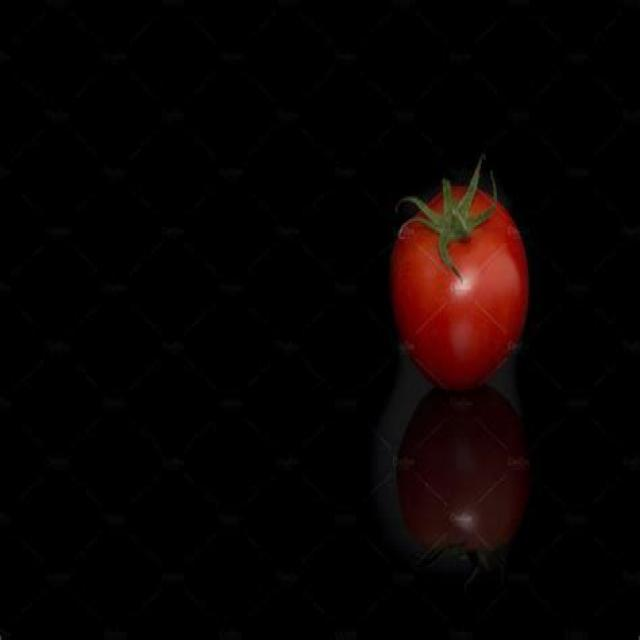Tomato: (388, 163, 531, 396)
